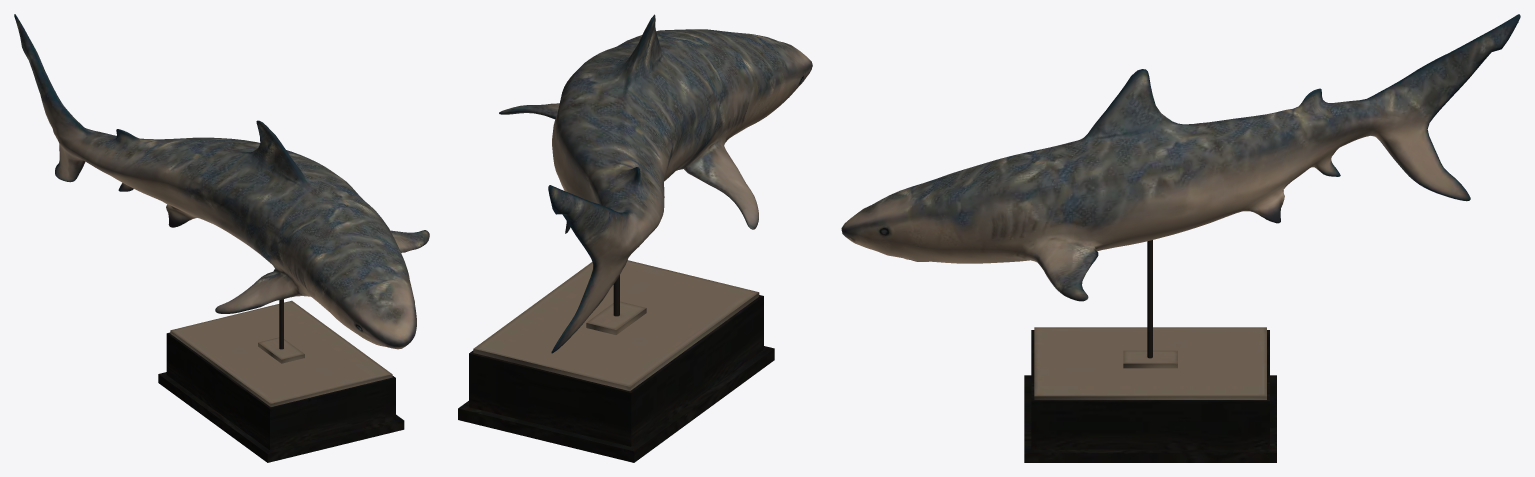
File: bronze_shark_statue.glb
The picture shows the model from 3 angles, left to right: view 1: azimuth 30°, elevation 25°; view 2: azimuth 150°, elevation 25°; view 3: azimuth 270°, elevation 25°; orthographic projection. The views are drawn at different scales.
Visible parts, largest first — view 1: bronze_shark_statue; view 2: bronze_shark_statue; view 3: bronze_shark_statue.
Part boxes in pixels (x1,y1,x2,y2): bronze_shark_statue: (14,14,429,462); bronze_shark_statue: (458,14,812,462); bronze_shark_statue: (841,14,1520,462).
Bounding box in the file's own units: 0.3519 × 0.4316 × 0.7598.
Materials: 1 (1 with a texture image).
